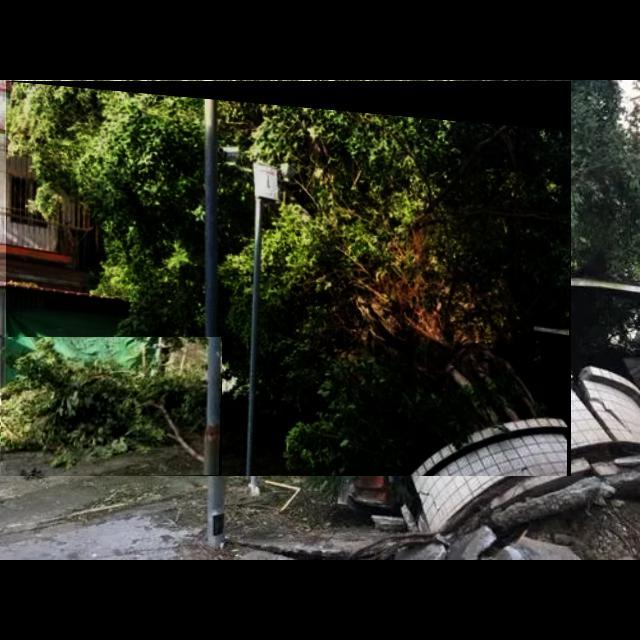fallen_tree: (6, 81, 572, 477), (1, 337, 223, 477)
